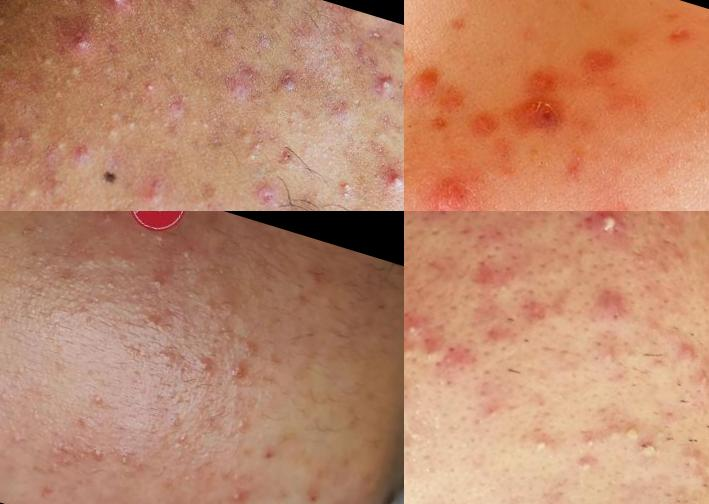blackhead: (405, 362, 418, 402), (405, 107, 420, 139)
folliculitis: (583, 281, 638, 329), (516, 414, 562, 466), (609, 413, 656, 458), (636, 428, 668, 470), (565, 451, 600, 483)
papular: (558, 25, 643, 100), (405, 149, 498, 212), (509, 84, 582, 151), (453, 98, 519, 158), (405, 50, 445, 100), (66, 129, 104, 168)
purulent: (584, 212, 634, 246), (265, 61, 302, 96), (375, 157, 405, 199), (66, 25, 101, 60), (97, 1, 142, 24), (368, 57, 397, 92), (405, 314, 429, 345)
whitehead: (177, 338, 219, 387), (93, 105, 143, 146), (326, 163, 368, 208), (3, 412, 42, 459), (4, 170, 49, 210), (76, 374, 119, 415), (233, 127, 271, 172), (103, 438, 138, 483), (223, 343, 254, 392), (170, 234, 207, 272), (44, 64, 78, 103), (79, 232, 108, 274), (46, 117, 75, 158), (219, 478, 260, 504), (138, 75, 168, 109), (85, 428, 112, 465), (475, 398, 508, 426), (138, 224, 169, 253), (85, 212, 128, 231), (418, 341, 445, 369), (405, 338, 424, 368), (1, 5, 14, 35)
